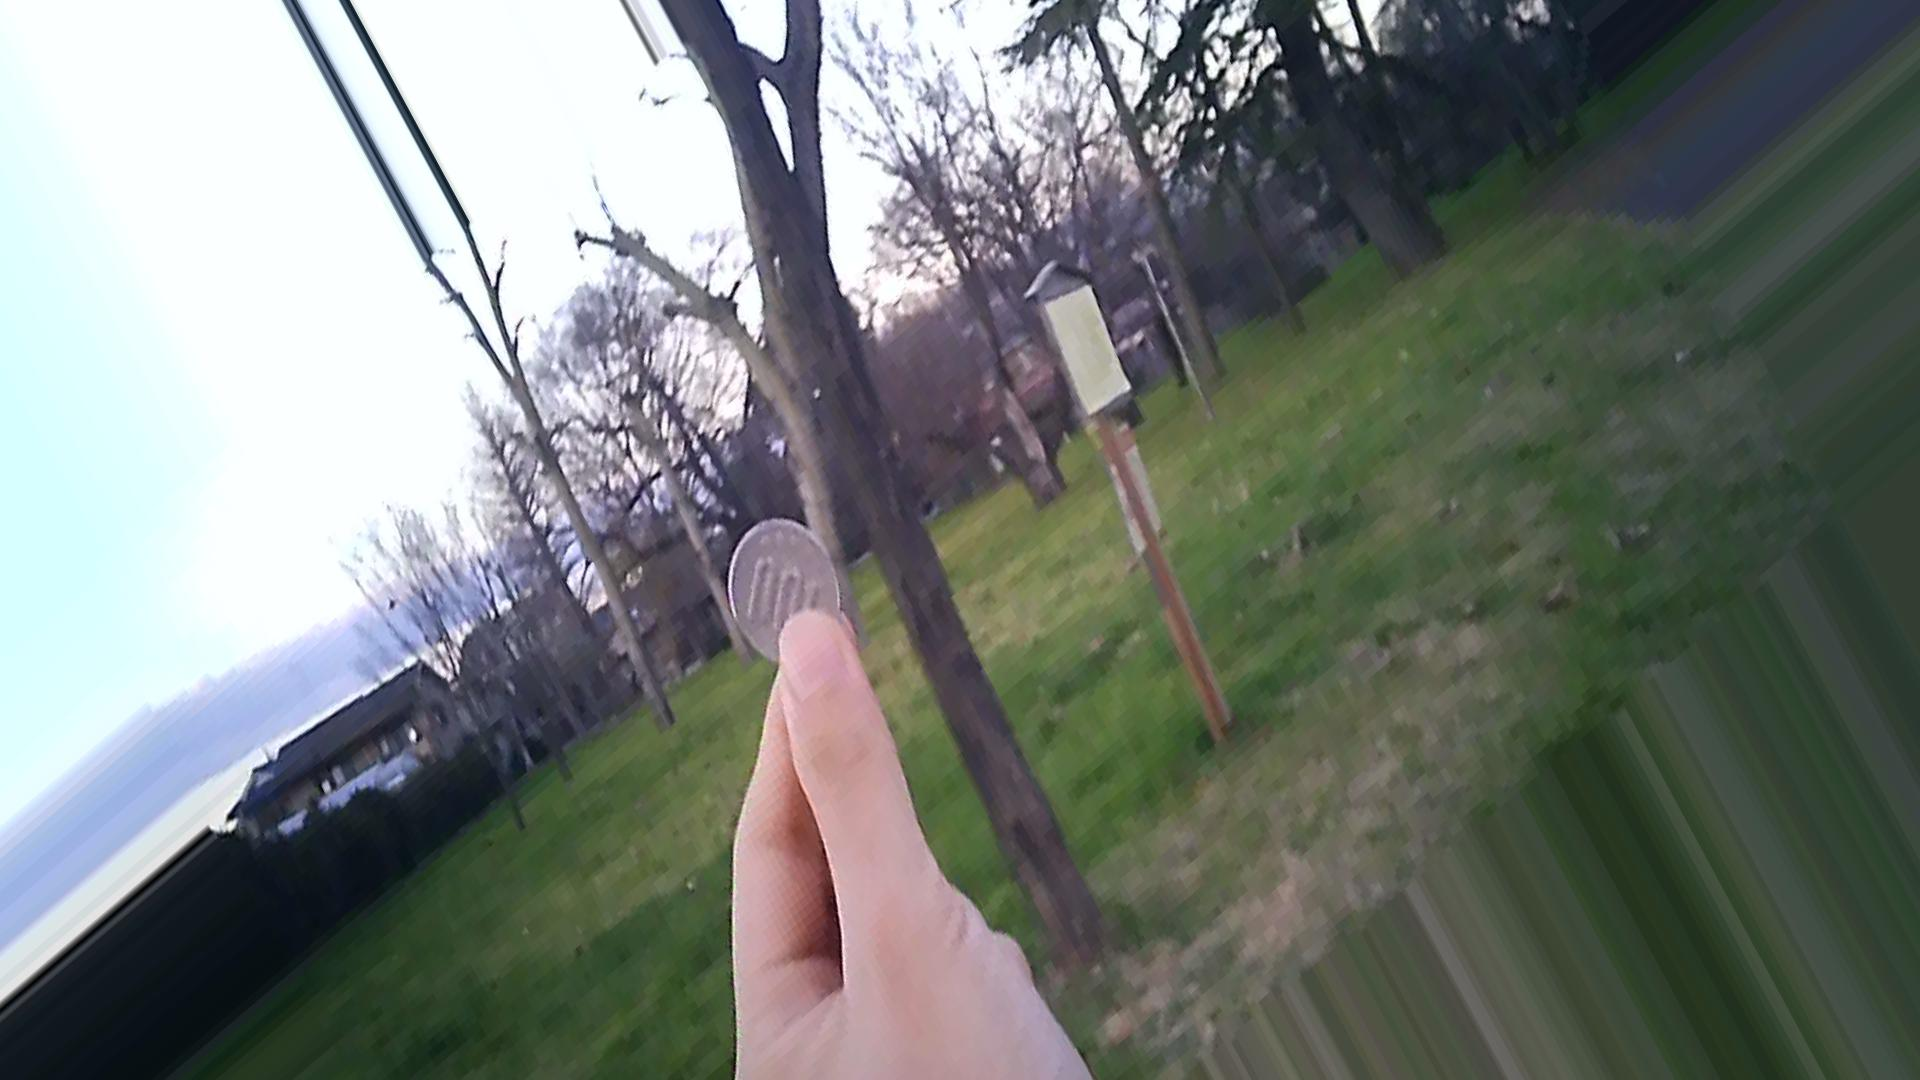100 Yen: (717, 512, 844, 665)
